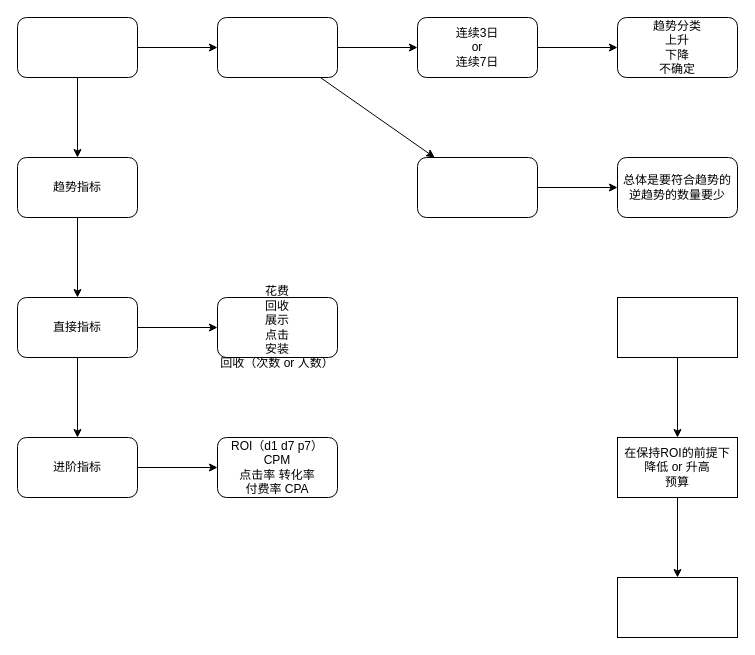
Image size: 755x655. Some labels were removed from this diagram. The shapes that lost their labels are listed below. From the top down, each one's box as (x1, y1, x2, y2) in pixels, then its label:
(16, 16, 138, 78): 趋势分析
(216, 16, 338, 78): 趋势阈值
(416, 156, 538, 218): 趋势判断
(616, 296, 738, 358): 希望得到结论
